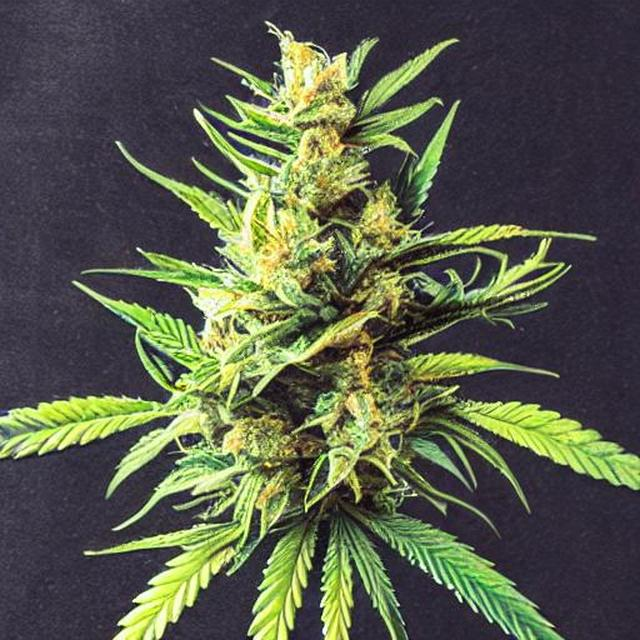Marijuana Joint: (1, 6, 637, 624)
